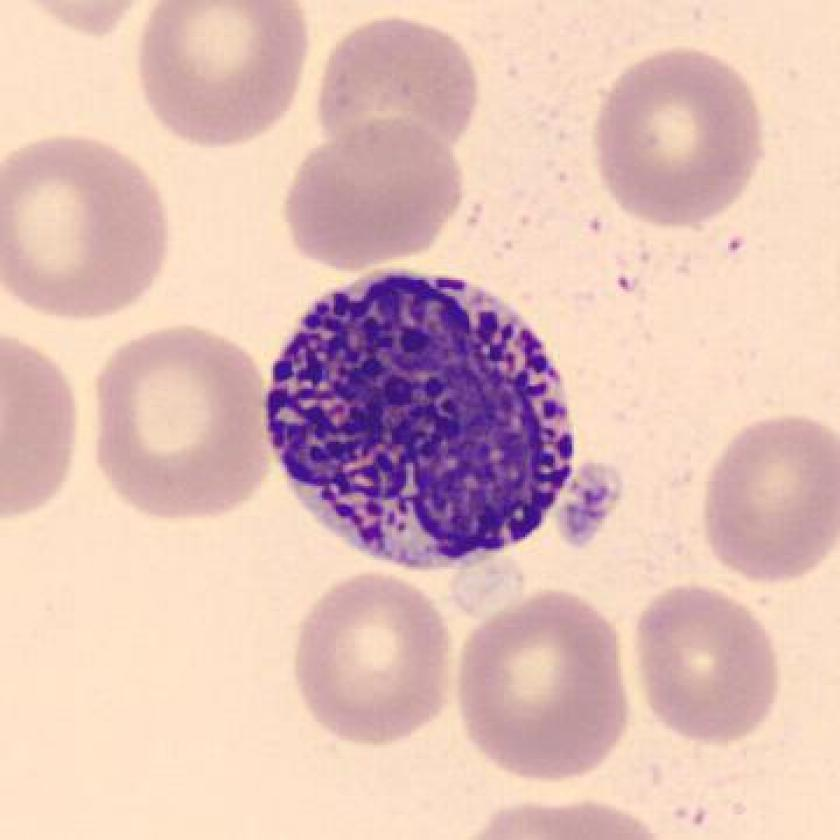basophil: (265, 265, 605, 575)
